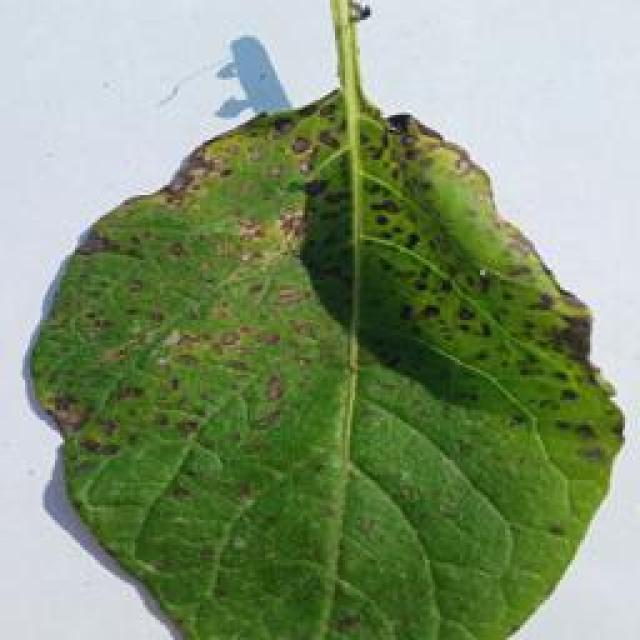Potato_Early_Blight: (24, 93, 640, 637)
